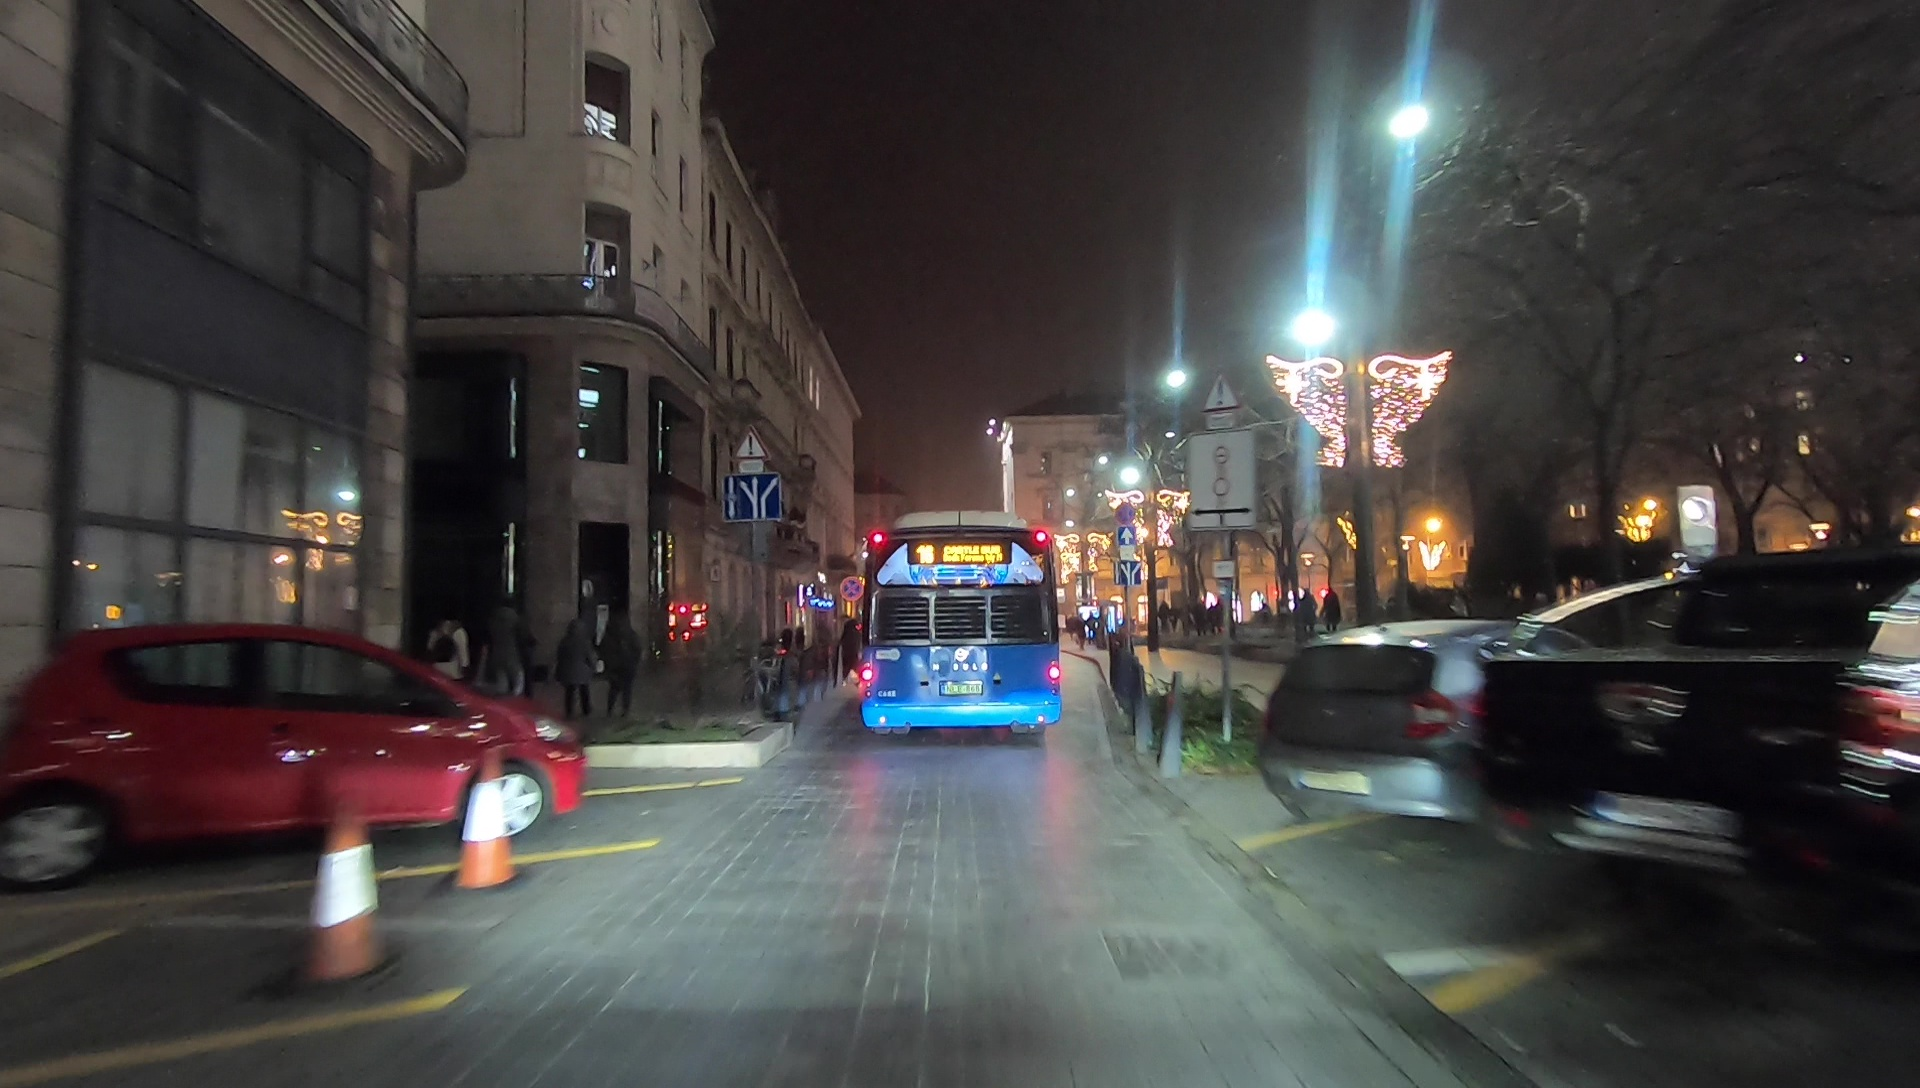person: (488, 611, 537, 711), (601, 613, 639, 714), (556, 619, 596, 715), (428, 612, 467, 696), (838, 613, 865, 688), (1320, 586, 1343, 633), (1298, 584, 1319, 632)
